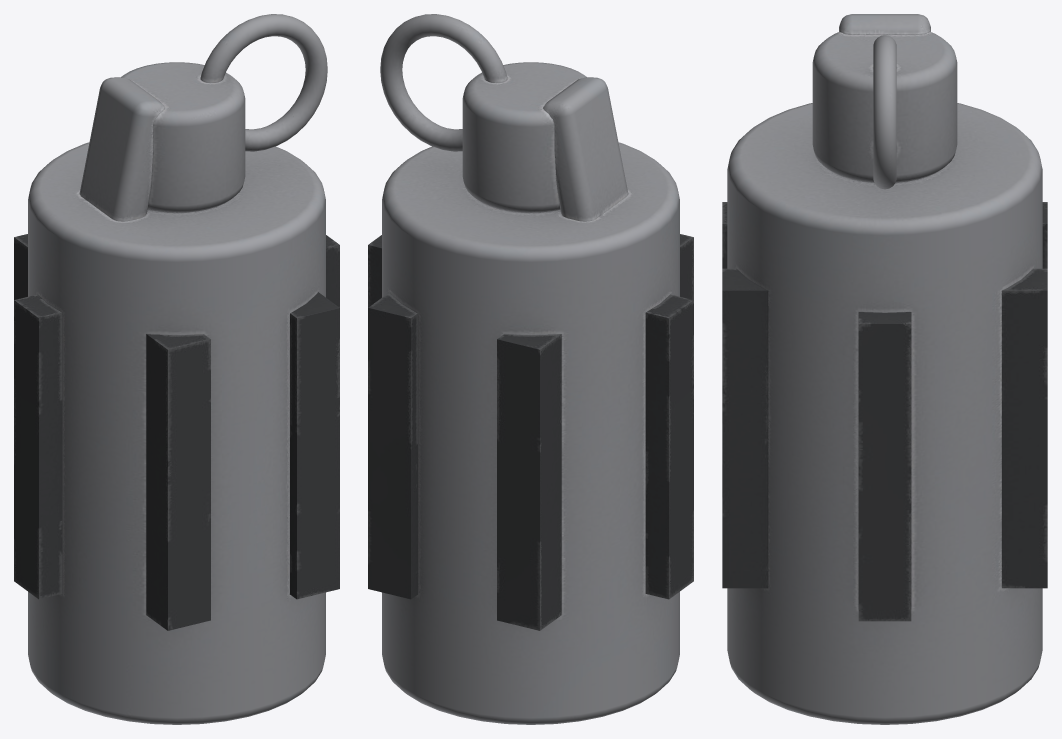
The model's file is flash.fbx.
3 views of the same model, side by side, from view 1: azimuth 30°, elevation 25°; view 2: azimuth 150°, elevation 25°; view 3: azimuth 270°, elevation 25° (orthographic). The views are drawn at different scales.
Parts seen in each view (by area): view 1: flash; view 2: flash; view 3: flash.
Boxes of the visible parts, <box> form: flash: <box>14,14,339,724</box>; flash: <box>368,14,693,724</box>; flash: <box>722,14,1047,724</box>.
Bounding box in the file's own units: 0.056 × 0.1118 × 0.0496.
